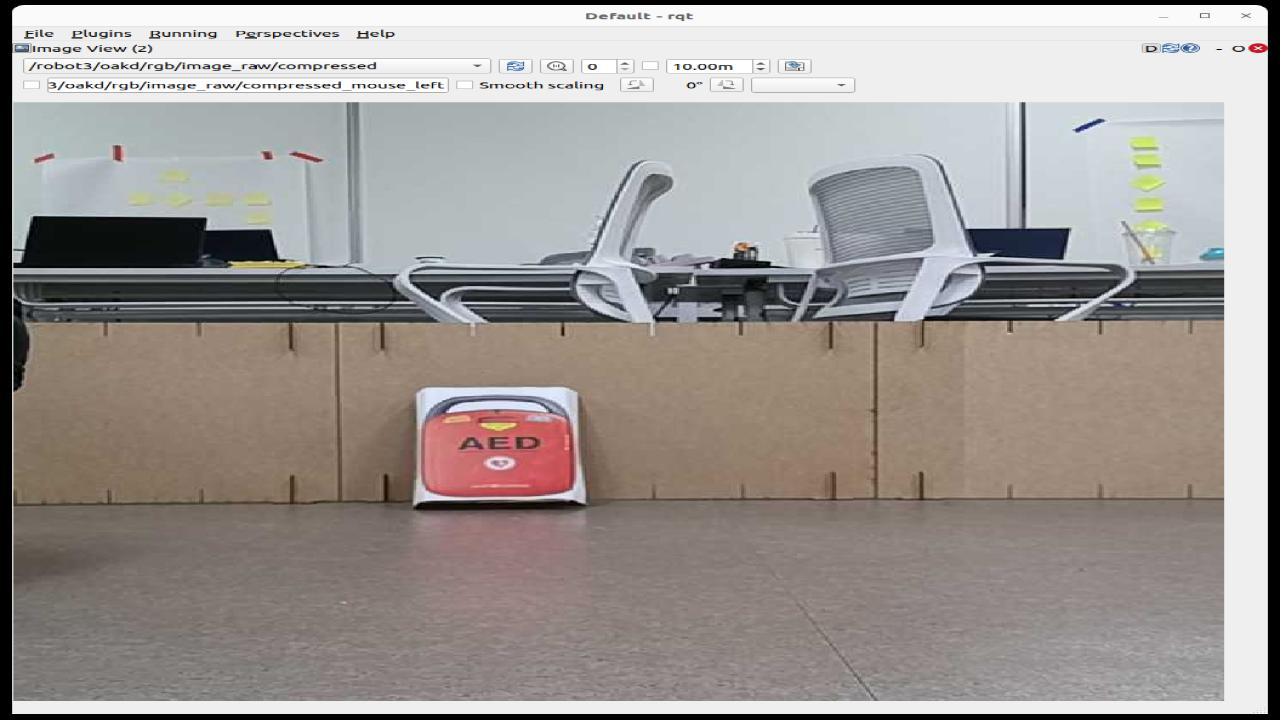AED: (415, 386, 585, 506)
